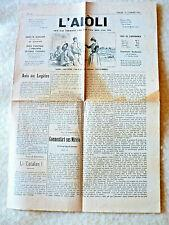paper: (8, 2, 159, 214)
